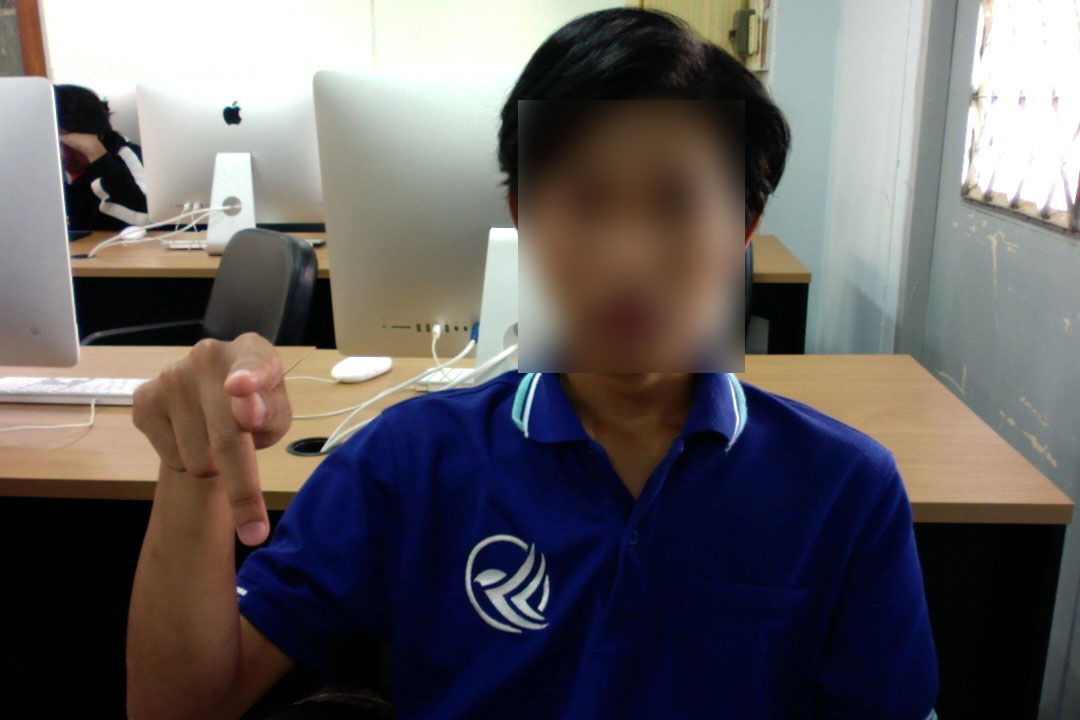por: (125, 326, 297, 551)
